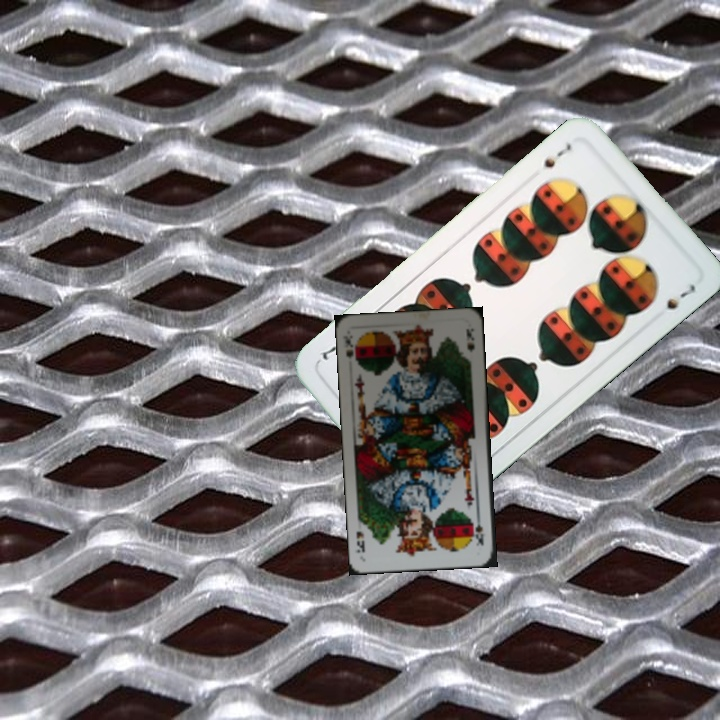S7: (539, 139, 574, 171)
SK: (339, 331, 360, 369), (471, 511, 486, 548)
